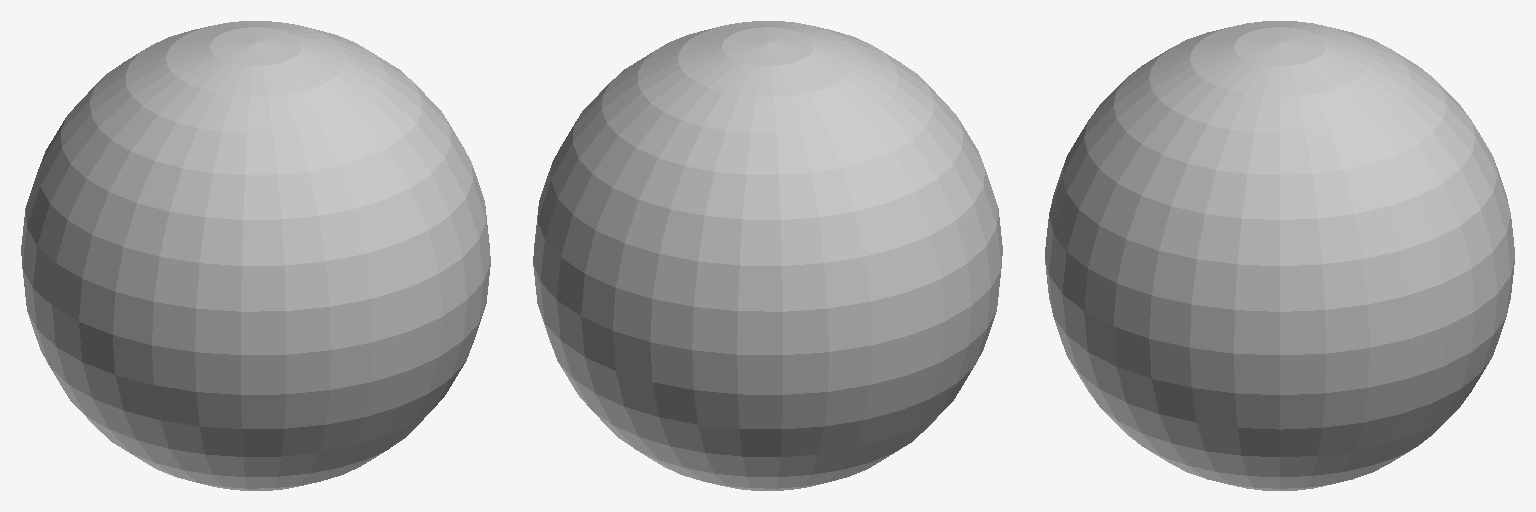
Rendered from new_globe.obj.
3 renders of one model, left to right at view 1: azimuth 30°, elevation 25°; view 2: azimuth 150°, elevation 25°; view 3: azimuth 270°, elevation 25°, orthographic.
Visible parts, largest first — view 1: Sphere; view 2: Sphere; view 3: Sphere.
Part boxes in pixels (bbox=[...]): Sphere: bbox=[21, 21, 490, 490]; Sphere: bbox=[533, 21, 1002, 490]; Sphere: bbox=[1045, 21, 1514, 490].
Size of the model in its own units: 0.8983 by 0.8983 by 0.8983.